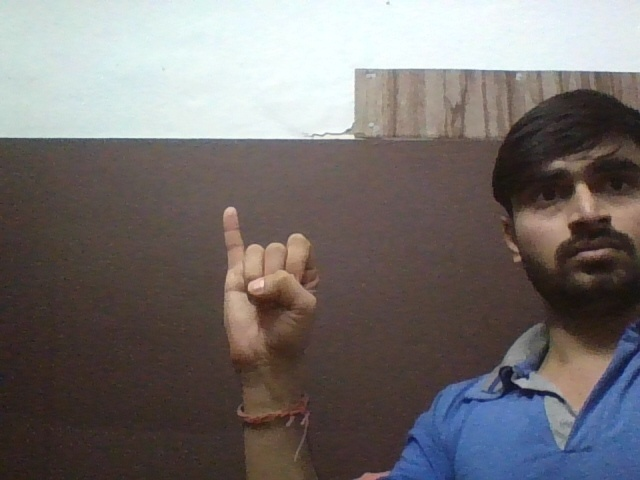I: (204, 199, 334, 367)
